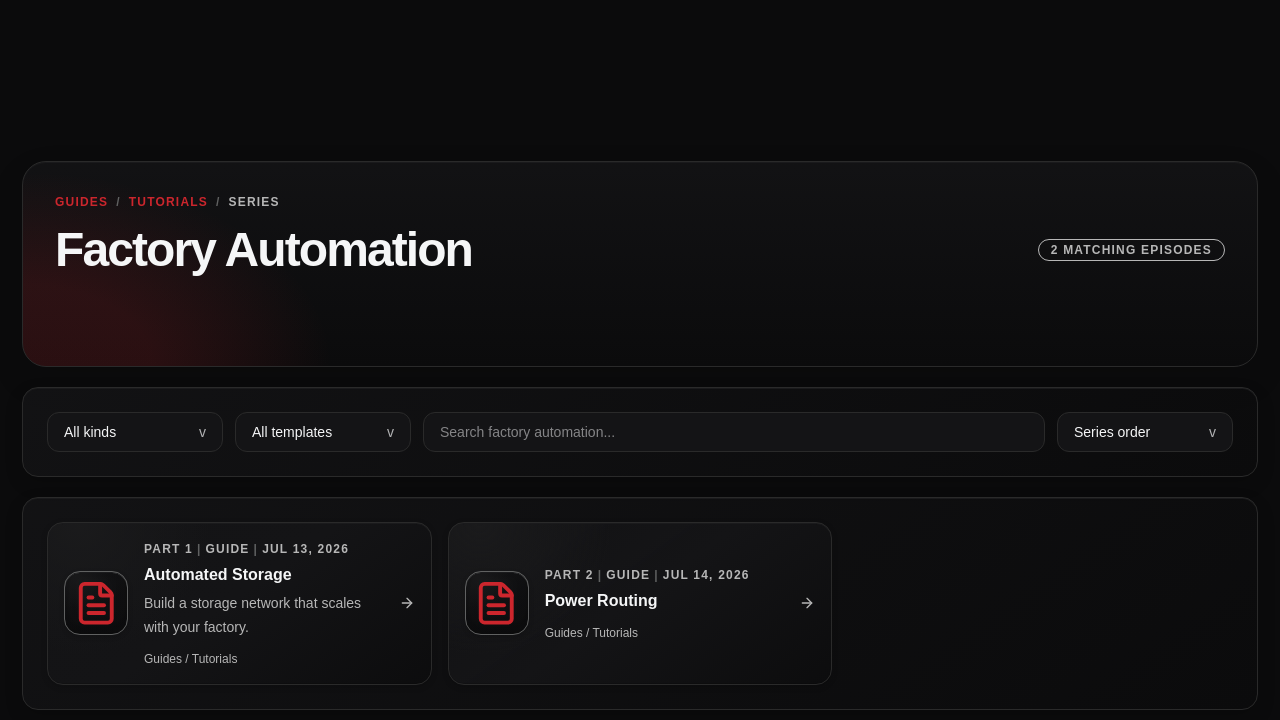
Test: PublicSeriesPage › filters episodes without leaving the results panel or an empty card shell
The image size is (1280, 720).
Type "power" into the search field named "Search episodes" at (734, 432), box [423,412,1045,452]
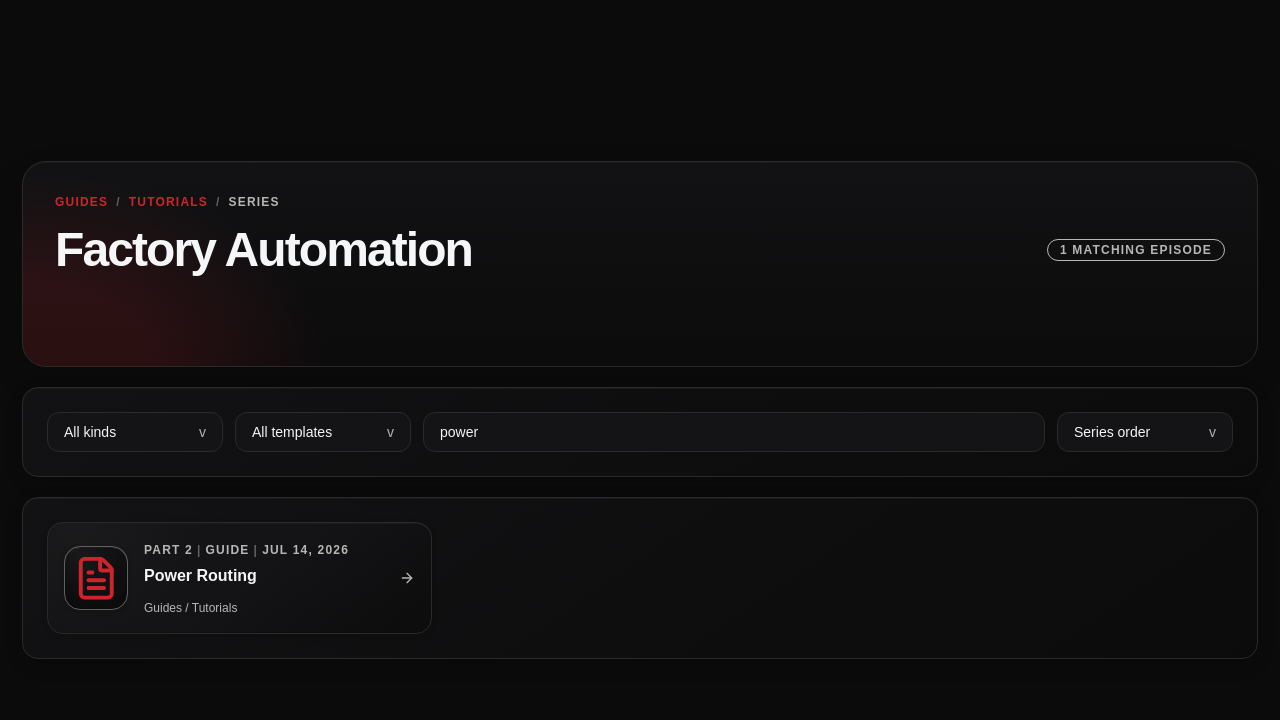
Expected: the text "Power Routing" is shown, [144,567,257,584]
Now the link "Automated Storage" is gone
Now the text "1 matching episode" is shown, box [1047,239,1225,261]
